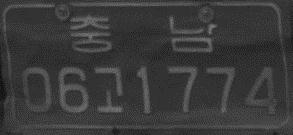0: (22, 67, 52, 113)
1: (131, 65, 160, 113)
4: (245, 66, 277, 113)
6: (57, 67, 88, 114)
7: (167, 65, 196, 114), (205, 66, 235, 112)
고: (93, 66, 125, 114)
충남_D: (68, 13, 216, 52)
